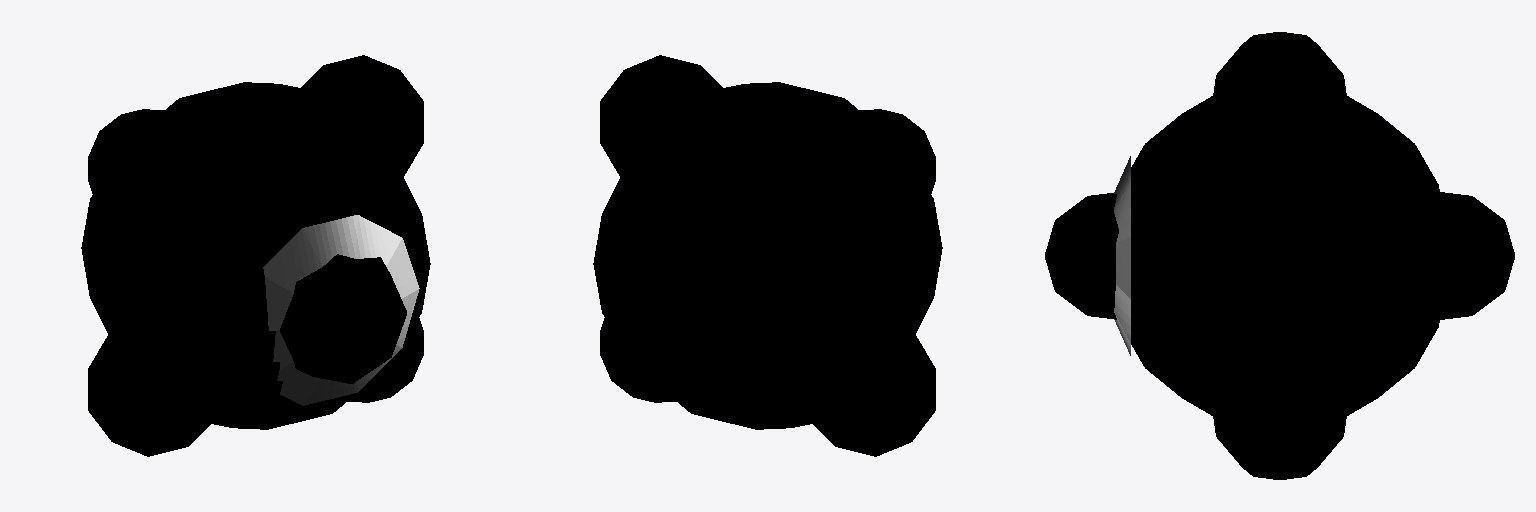
The picture shows the model from 3 angles: view 1: azimuth 30°, elevation 25°; view 2: azimuth 150°, elevation 25°; view 3: azimuth 270°, elevation 25°; orthographic projection.
Visible parts, largest first — view 1: polygon2, polygon1, polygon0; view 2: polygon2, polygon1; view 3: polygon2, polygon1, polygon0.
Boxes of the visible parts, x1=… form: polygon2: x1=81, y1=82, x2=430, y2=429; polygon1: x1=88, y1=55, x2=423, y2=456; polygon0: x1=263, y1=215, x2=419, y2=405; polygon2: x1=593, y1=82, x2=942, y2=429; polygon1: x1=600, y1=55, x2=935, y2=456; polygon2: x1=1131, y1=82, x2=1440, y2=415; polygon1: x1=1045, y1=32, x2=1514, y2=479; polygon0: x1=1114, y1=156, x2=1130, y2=355.
Bounding box in the file's own units: 13.6 × 13.6 × 17.21.
3 materials, 2 textured.